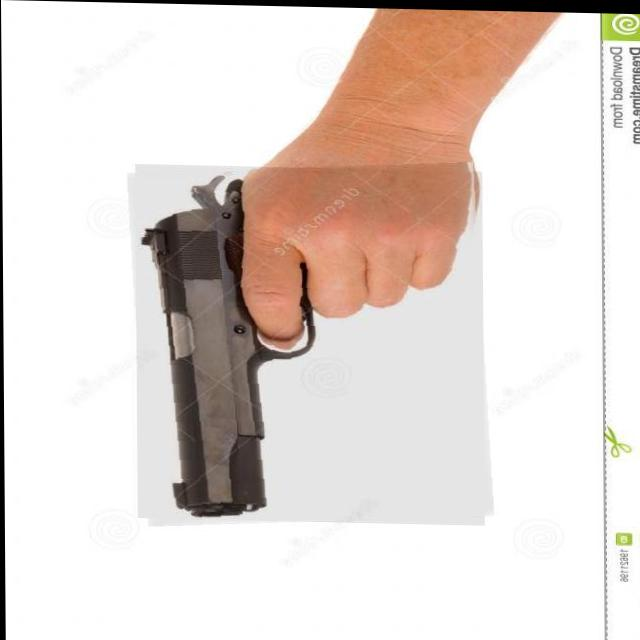handgun: (129, 159, 488, 528)
